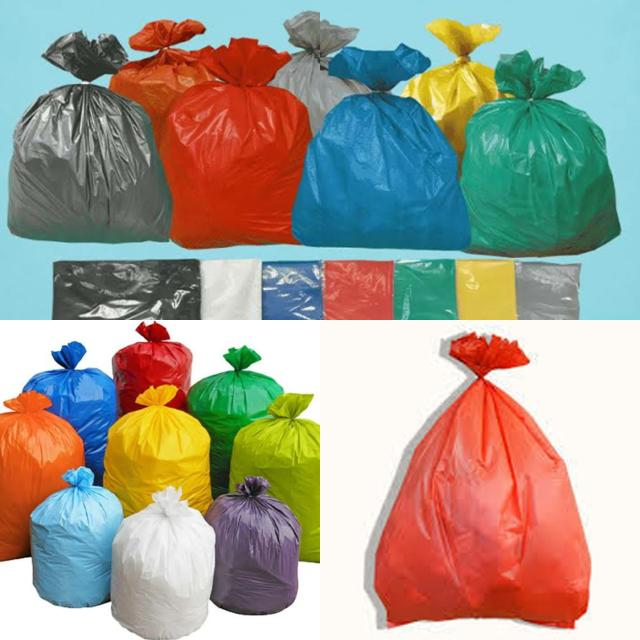Single-layer Plastic: (374, 332, 590, 628), (292, 44, 470, 250), (8, 31, 171, 242), (460, 51, 620, 256), (159, 39, 311, 249), (111, 486, 215, 640), (230, 394, 320, 562), (188, 346, 284, 497), (0, 391, 85, 559), (402, 19, 501, 163), (104, 385, 212, 516), (205, 476, 301, 615), (24, 341, 116, 485), (30, 466, 122, 608), (270, 11, 370, 135), (109, 20, 215, 135), (112, 322, 192, 416)
